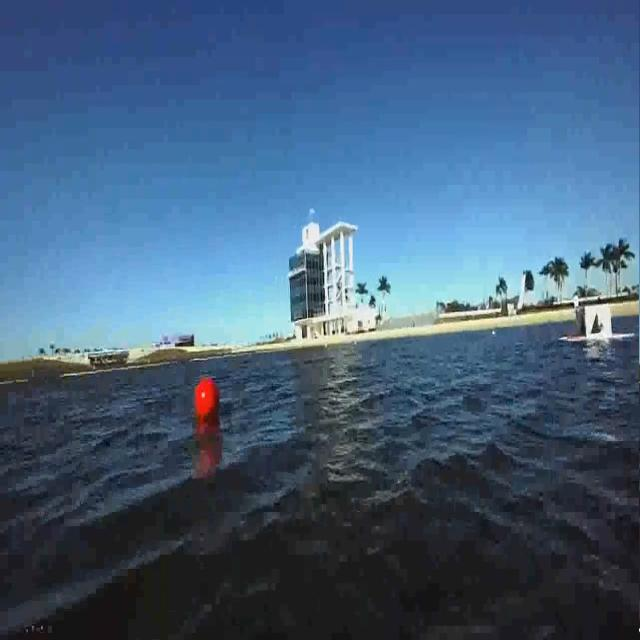red-buoy: (195, 378, 222, 424)
